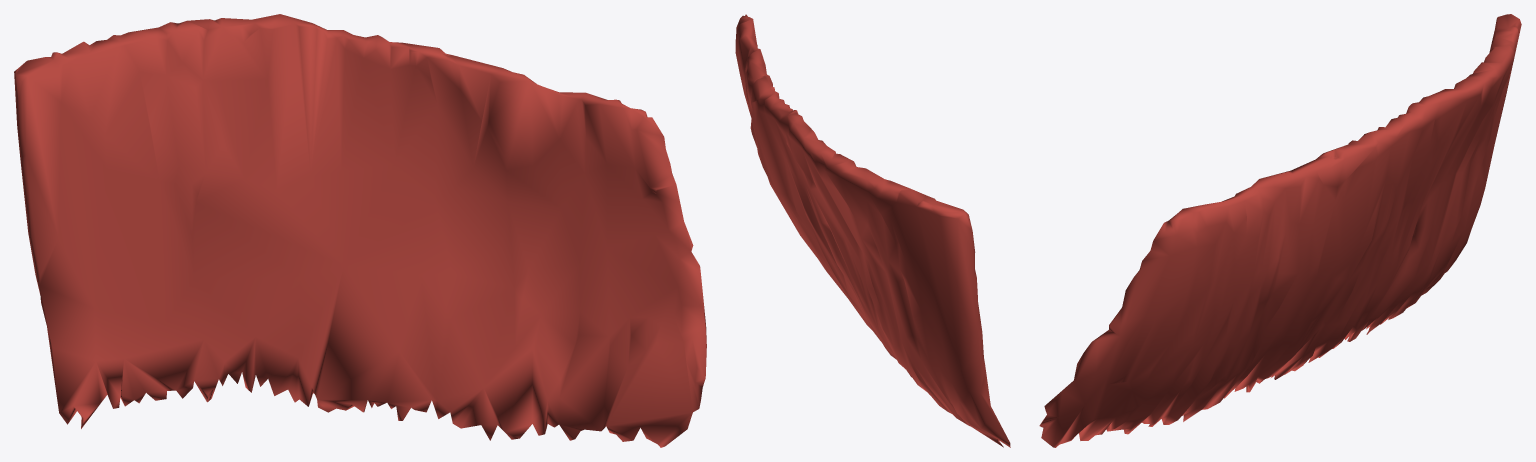
File: musculos-occipitalis-muscle-l.glb
3 views of the same model, side by side, from view 1: azimuth 30°, elevation 25°; view 2: azimuth 150°, elevation 25°; view 3: azimuth 270°, elevation 25° (orthographic). The views are drawn at different scales.
Visible parts, largest first — view 1: Occipitalis muscle.l; view 2: Occipitalis muscle.l; view 3: Occipitalis muscle.l.
Boxes of the visible parts, x1,y1,x2,y2 form: Occipitalis muscle.l: [14, 14, 706, 447]; Occipitalis muscle.l: [735, 14, 1010, 447]; Occipitalis muscle.l: [1039, 14, 1521, 447].
Bounding box in the file's own units: 0.0466 × 0.033 × 0.0466.
